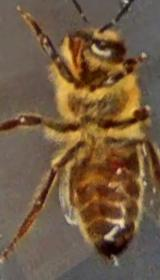varroa_mite: (98, 144, 136, 182)
